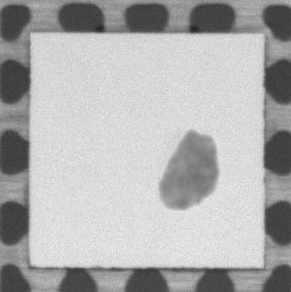DIE_INK: (158, 129, 220, 210)
